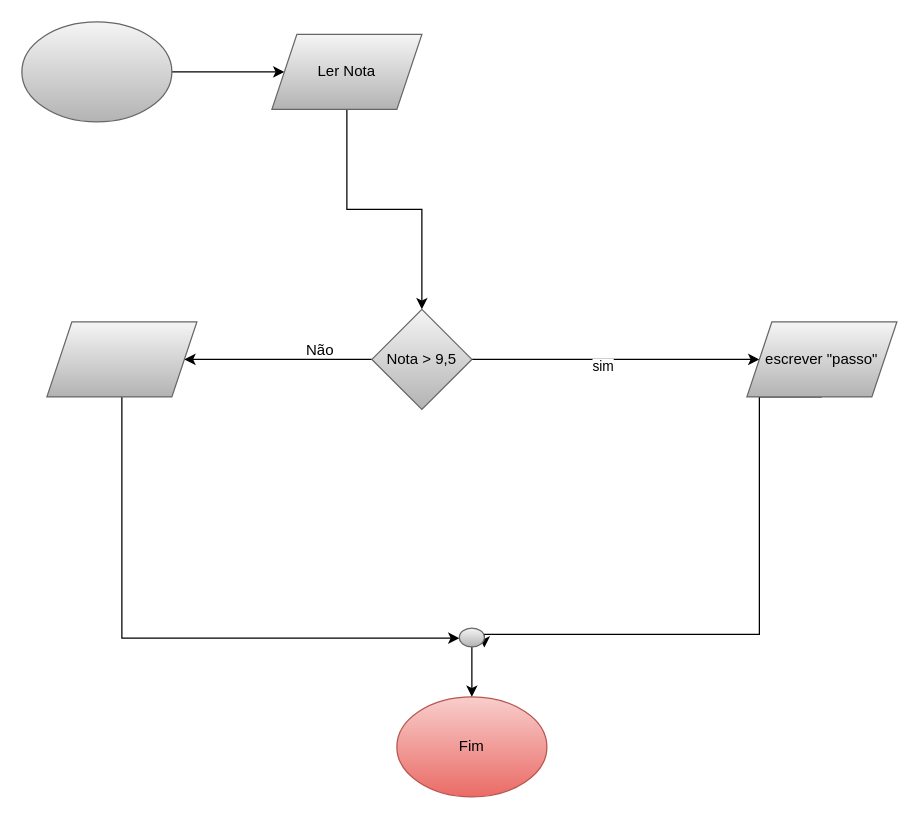
The diagram is 919 pixels wide and 819 high, and some of its shapes have lost their labels. The shapes that lost their labels are listed below. From the top down, each one's centre as x and y in pixels, then its label:
point (96, 71): Inicío
point (121, 359): escrever "chumbou"
